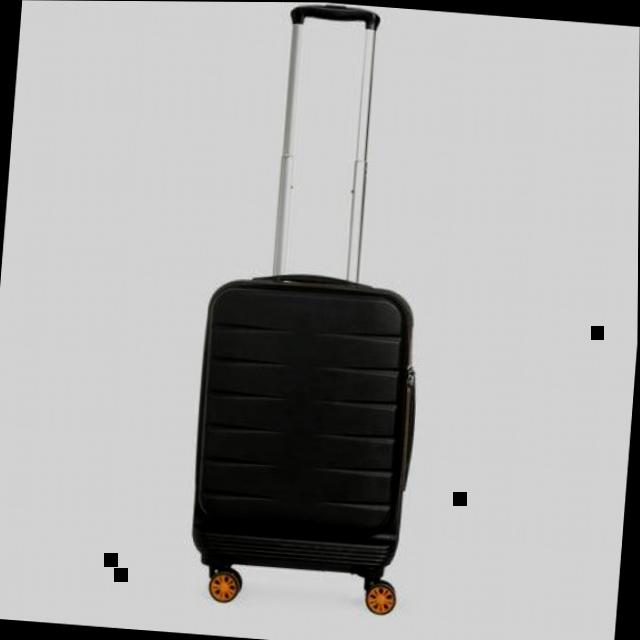luggage: (177, 254, 440, 584)
